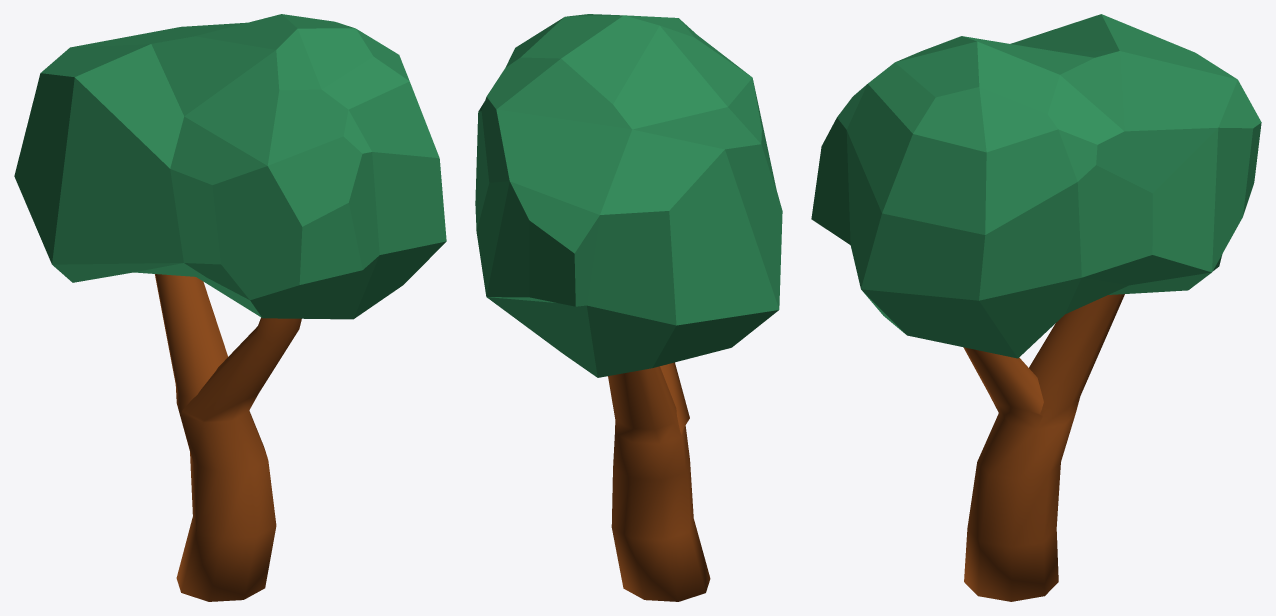
File: deciduous-tree-1.glb
3 views of the same model, side by side, from view 1: azimuth 30°, elevation 25°; view 2: azimuth 150°, elevation 25°; view 3: azimuth 270°, elevation 25° (orthographic). The views are drawn at different scales.
Parts seen in each view (by area): view 1: deciduous-tree-1; view 2: deciduous-tree-1; view 3: deciduous-tree-1.
Boxes of the visible parts, x1,y1,x2,y2 form: deciduous-tree-1: (14,14,446,601); deciduous-tree-1: (475,14,782,601); deciduous-tree-1: (811,14,1261,601).
Size of the model in its own units: 3.8 by 6.06 by 4.33.
